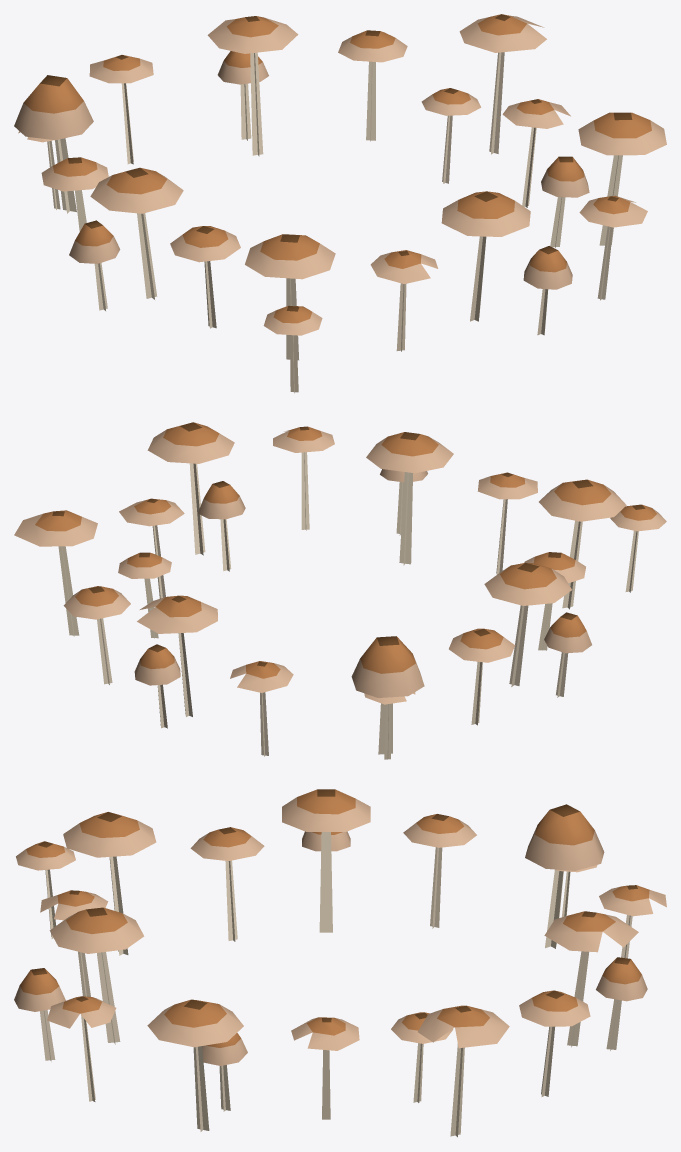
The model's file is Brown_Mushrooms_Cluster_1.fbx.
The picture shows the model from 3 angles, top to bottom: view 1: azimuth 30°, elevation 25°; view 2: azimuth 150°, elevation 25°; view 3: azimuth 270°, elevation 25°; orthographic projection. The views are drawn at different scales.
Parts seen in each view (by area): view 1: Brown_Mushrooms_Cluster_1; view 2: Brown_Mushrooms_Cluster_1; view 3: Brown_Mushrooms_Cluster_1.
Part boxes in pixels (x1,y1,x2,y2): Brown_Mushrooms_Cluster_1: (14,14,666,393); Brown_Mushrooms_Cluster_1: (14,422,666,759); Brown_Mushrooms_Cluster_1: (14,789,666,1137).
Size of the model in its own units: 57.74 by 13.33 by 59.37.
1 material, 1 textured.
